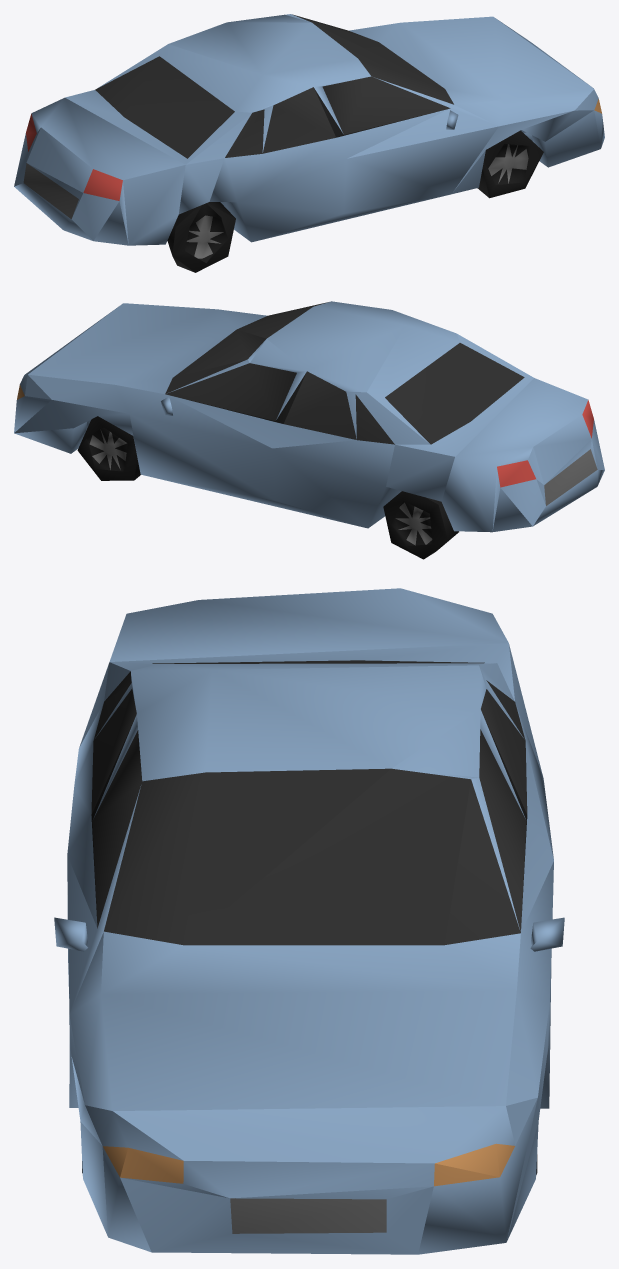
The model's file is sedan-lo.glb.
3 views of the same model, one above another, from view 1: azimuth 30°, elevation 25°; view 2: azimuth 150°, elevation 25°; view 3: azimuth 270°, elevation 25° (orthographic). The views are drawn at different scales.
Visible parts, largest first — view 1: NormalCar1; view 2: NormalCar1; view 3: NormalCar1.
Part boxes in pixels (left/top/right/bottom): NormalCar1: left=14, top=14, right=604, bottom=272; NormalCar1: left=14, top=301, right=604, bottom=559; NormalCar1: left=54, top=588, right=564, bottom=1254.
Size of the model in its own units: 4.19 by 1.17 by 1.76.
